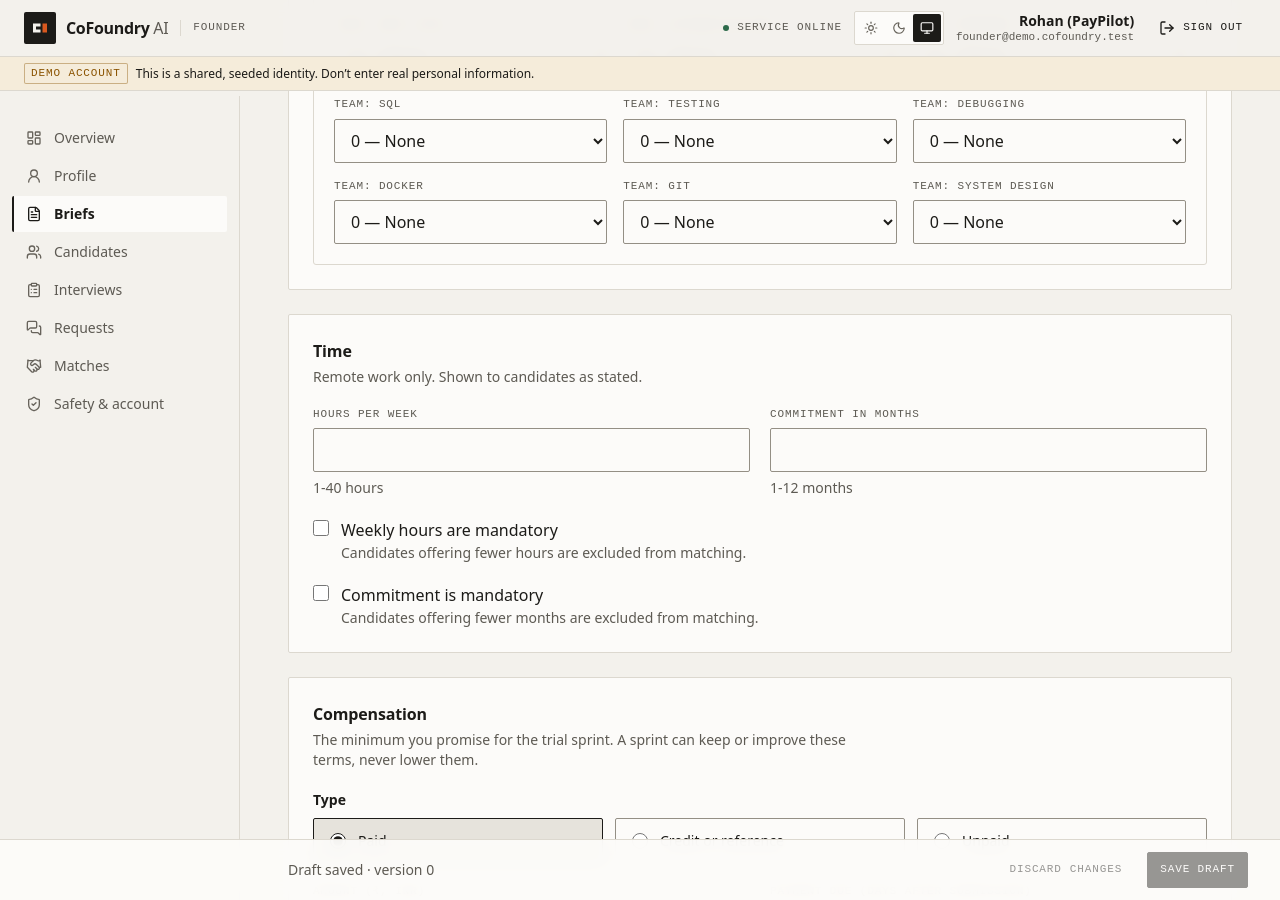
Scenario: draft editor › blocks saving invalid values on the client
The width and height of the screenshot is (1280, 900).
(page scrolled)
Type "50" into the number field labelled "Hours per week" at (532, 450), box [313,428,750,472]
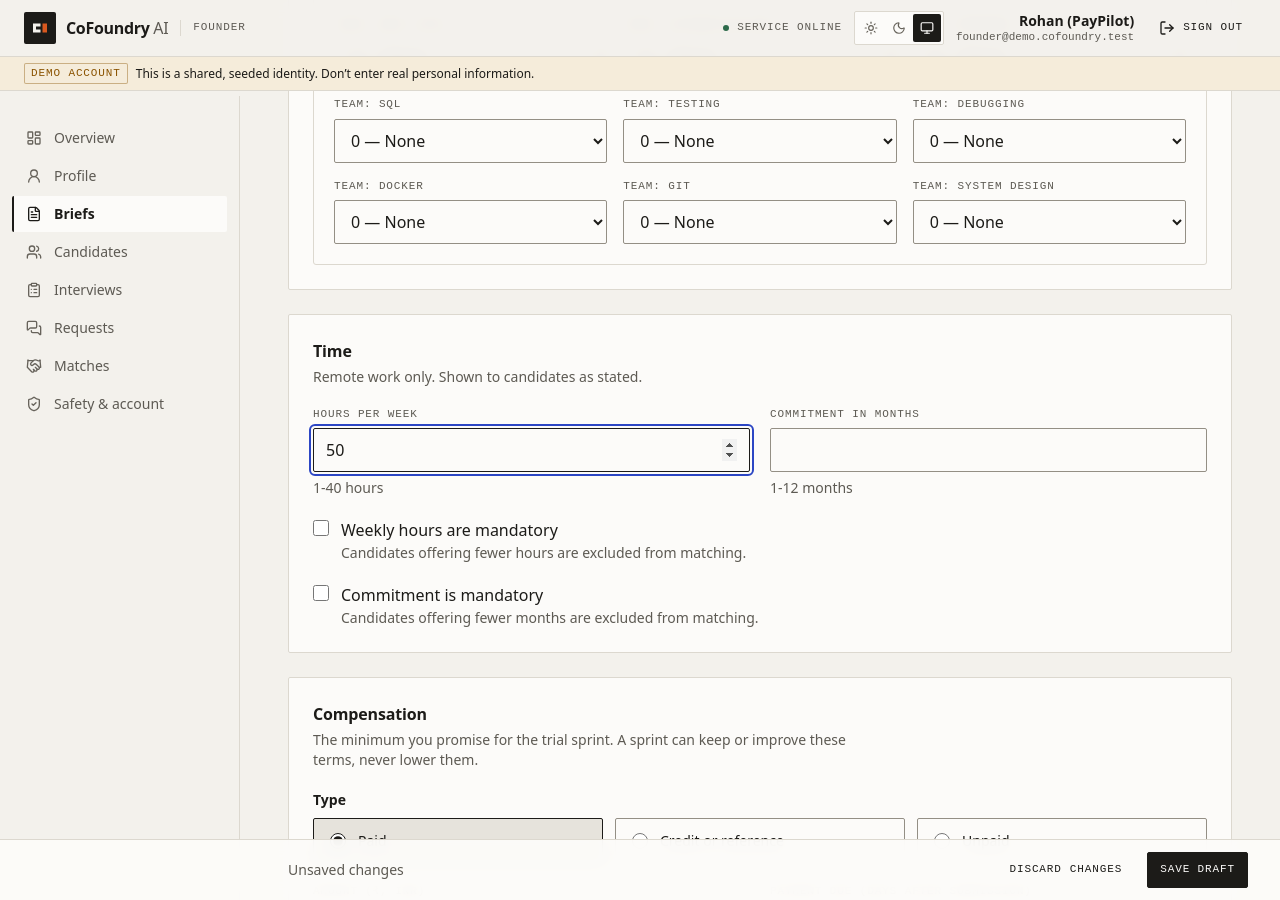
Click the button "Save draft" at (1198, 870), box [1147,852,1248,888]
(page scrolled)
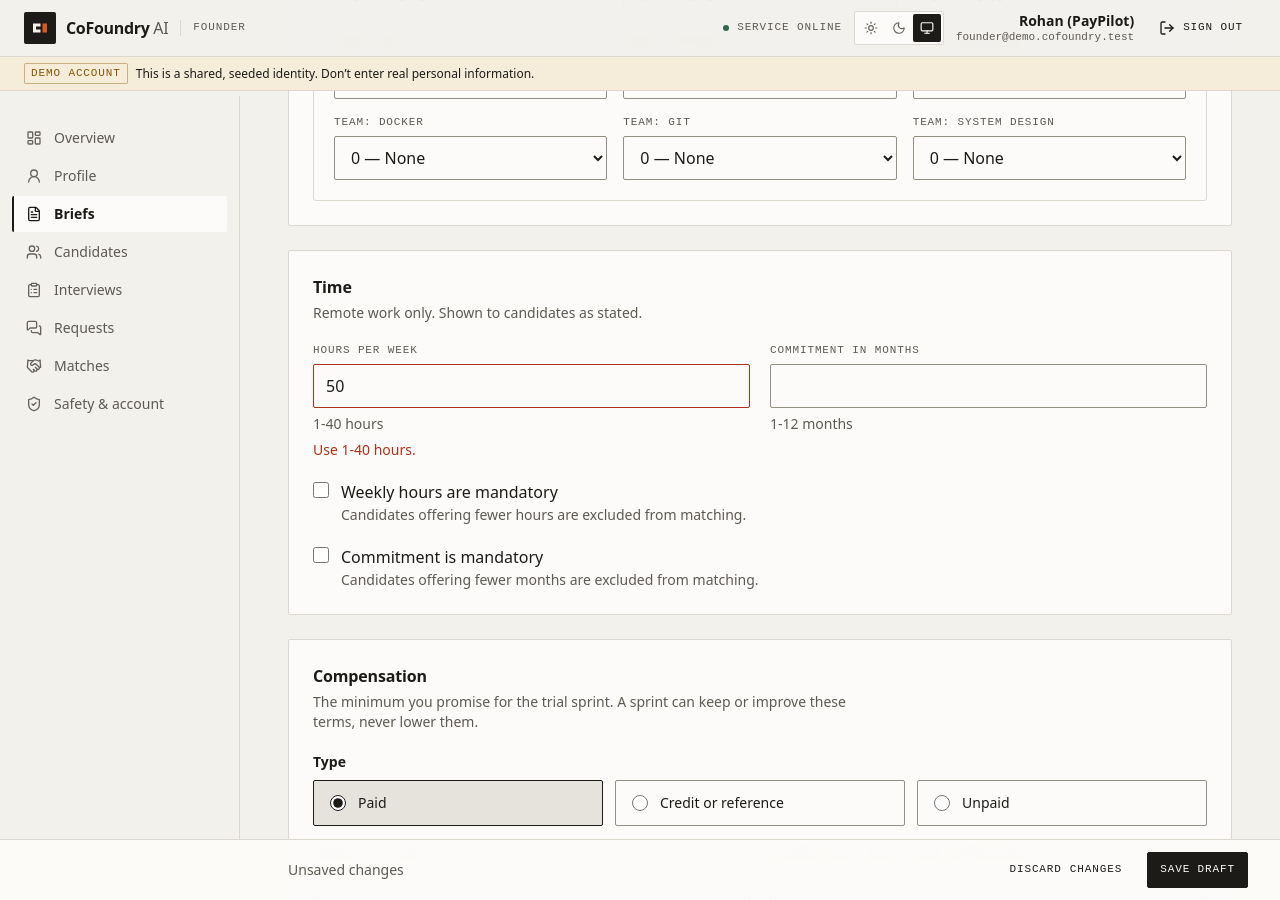
Expected: the text "Use 1-40 hours." is shown, [313,440,416,459]
